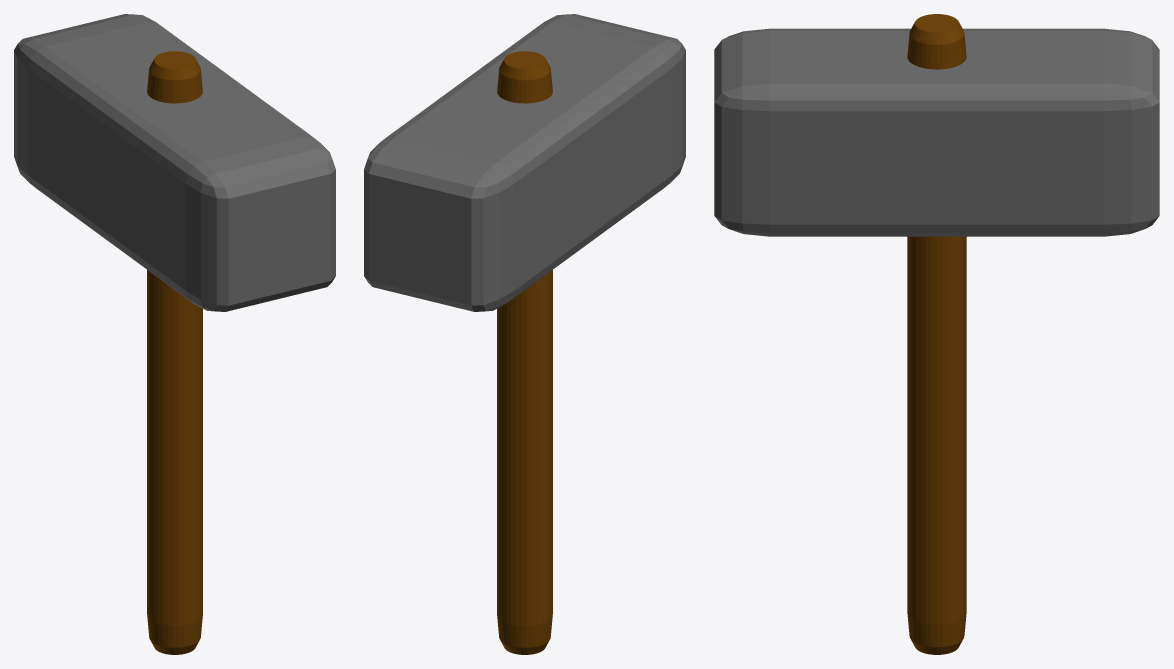
The model's file is Hammer.glb.
3 renders of one model, left to right at view 1: azimuth 30°, elevation 25°; view 2: azimuth 150°, elevation 25°; view 3: azimuth 270°, elevation 25°, orthographic. The views are drawn at different scales.
Parts seen in each view (by area): view 1: Hammer Head, Hammer; view 2: Hammer Head, Hammer; view 3: Hammer Head, Hammer.
Part boxes in pixels (x1=…): Hammer Head: x1=14, y1=14, x2=335, y2=311; Hammer: x1=147, y1=51, x2=202, y2=654; Hammer Head: x1=364, y1=14, x2=685, y2=311; Hammer: x1=497, y1=51, x2=552, y2=654; Hammer Head: x1=714, y1=28, x2=1159, y2=236; Hammer: x1=907, y1=14, x2=966, y2=654.
Size of the model in its own units: 0.9 by 3.7 by 2.4.
